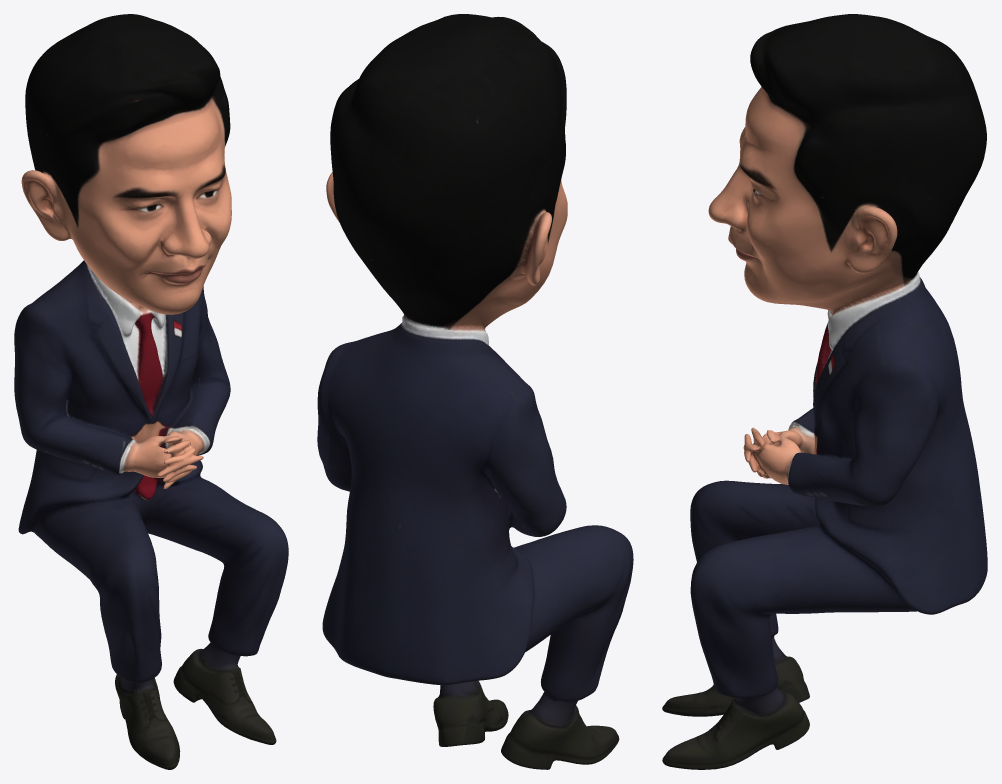
The model's file is gibran.glb.
3 views of the same model, side by side, from view 1: azimuth 30°, elevation 25°; view 2: azimuth 150°, elevation 25°; view 3: azimuth 270°, elevation 25° (orthographic). The views are drawn at different scales.
Bounding box in the file's own units: 0.6001 × 1.9 × 0.7823.
Materials: 1 (1 with a texture image).
